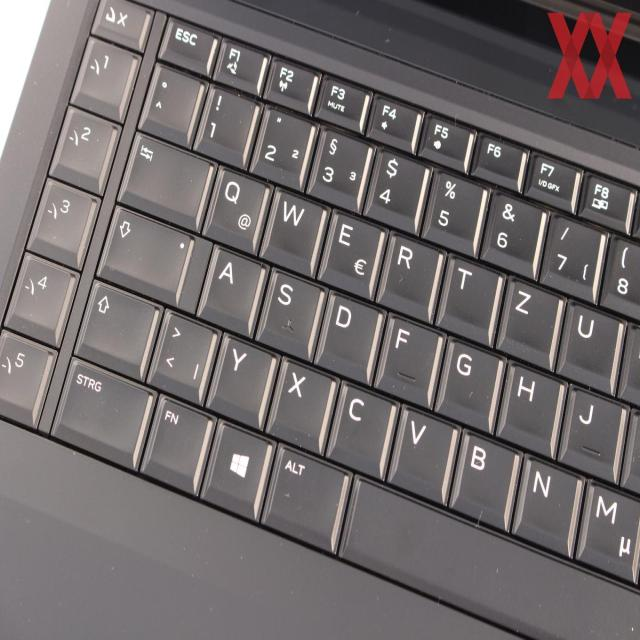1: (196, 84, 262, 163)
2: (251, 108, 317, 187)
3: (307, 124, 373, 210)
4: (363, 149, 430, 230)
5: (420, 170, 487, 251)
6: (481, 193, 548, 274)
7: (542, 212, 606, 301)
8: (603, 230, 638, 313)
a: (199, 247, 265, 333)
alt-left: (263, 447, 349, 555)
b: (451, 430, 521, 526)
c: (325, 383, 397, 476)
caret: (137, 62, 203, 141)
d: (313, 291, 384, 382)
e: (319, 213, 387, 299)
f: (374, 313, 444, 406)
g: (434, 339, 504, 431)
h: (496, 362, 566, 454)
j: (559, 388, 629, 481)
less: (145, 307, 219, 398)
m: (577, 481, 639, 582)
n: (514, 457, 584, 553)
q: (203, 166, 271, 252)
r: (375, 232, 443, 318)
s: (256, 270, 322, 356)
shift-left: (76, 283, 162, 380)
shift-lock: (98, 203, 198, 306)
space: (335, 475, 638, 637)
strg-left: (51, 357, 157, 471)
t: (438, 254, 504, 340)
tab: (118, 134, 214, 229)
u: (558, 299, 626, 390)
v: (387, 408, 459, 500)
w: (260, 187, 328, 272)
x: (265, 359, 339, 450)
y: (205, 335, 279, 426)
z: (498, 279, 566, 364)
